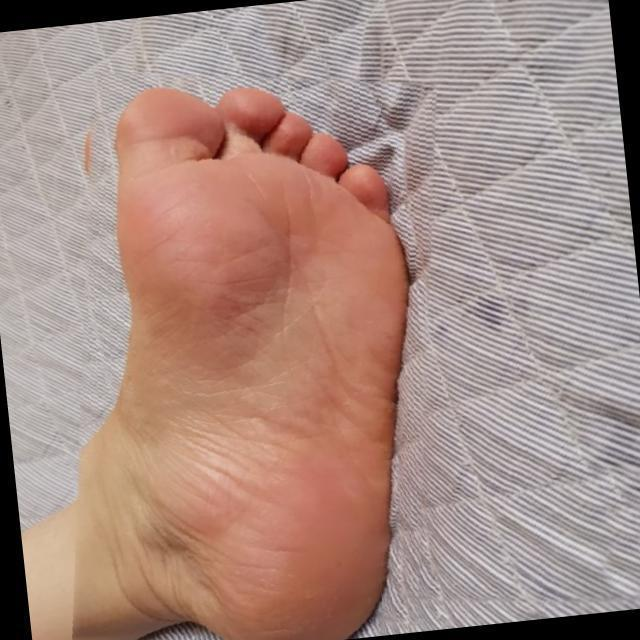No_Shoes: (82, 86, 484, 640)
